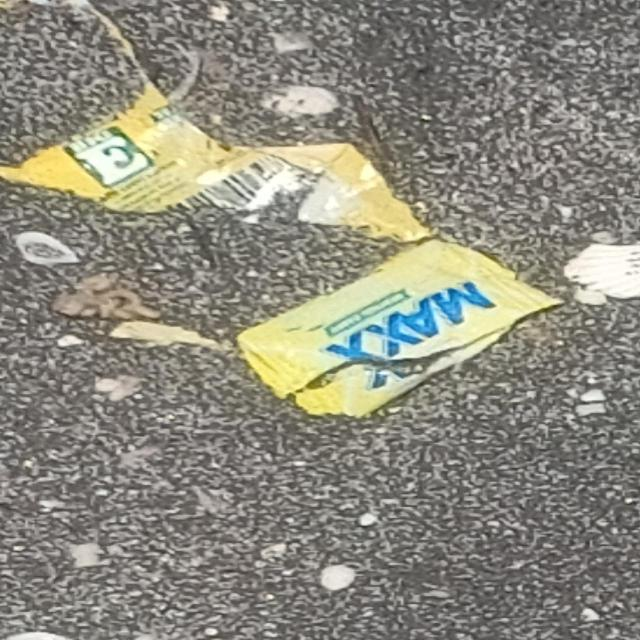plastic_waste: (1, 81, 433, 242), (234, 239, 568, 422)
